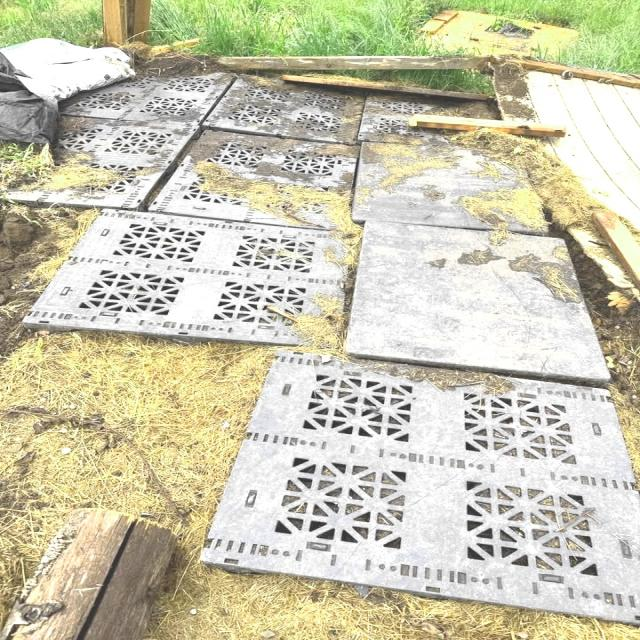non-igps: (192, 347, 640, 640), (19, 207, 352, 353), (339, 218, 615, 390), (56, 64, 507, 160), (144, 127, 362, 234), (348, 139, 552, 238)
